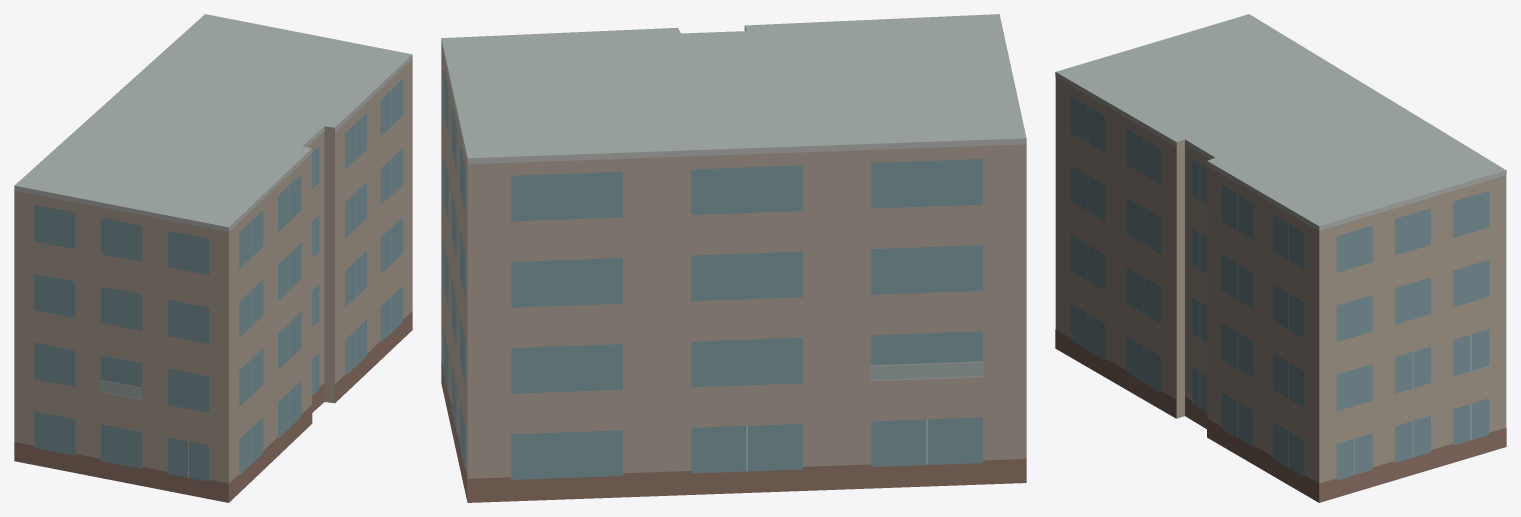
Rendered from survey-upis-32828952.glb.
The picture shows the model from 3 angles, left to right: view 1: azimuth 30°, elevation 25°; view 2: azimuth 150°, elevation 25°; view 3: azimuth 270°, elevation 25°; orthographic projection. The views are drawn at different scales.
Parts seen in each view (by area): view 1: survey-upis-32828952.tmp; view 2: survey-upis-32828952.tmp; view 3: survey-upis-32828952.tmp.
Boxes of the visible parts, x1,y1,x2,y2 form: survey-upis-32828952.tmp: [14, 14, 412, 502]; survey-upis-32828952.tmp: [441, 14, 1026, 502]; survey-upis-32828952.tmp: [1055, 14, 1506, 502].
Bounding box in the file's own units: 23.04 × 14 × 20.69.
